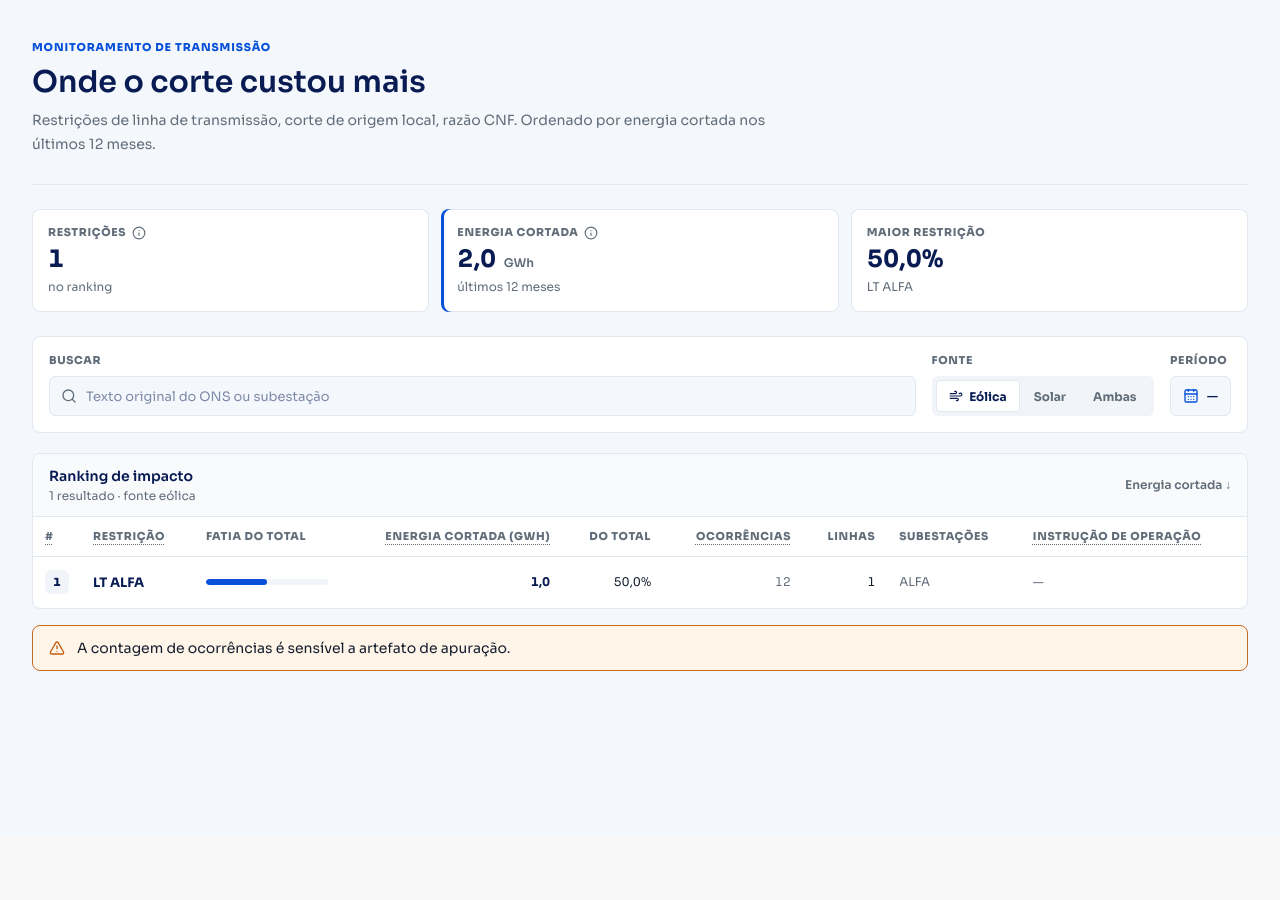
Test: restrictions list, tooltips › opens the API warning as a tooltip on the occurrences header
This screenshot has width=1280, height=900.
Focus the text "Ocorrências" at coordinates (744, 536), box x1=696 y1=529 x2=791 y2=543
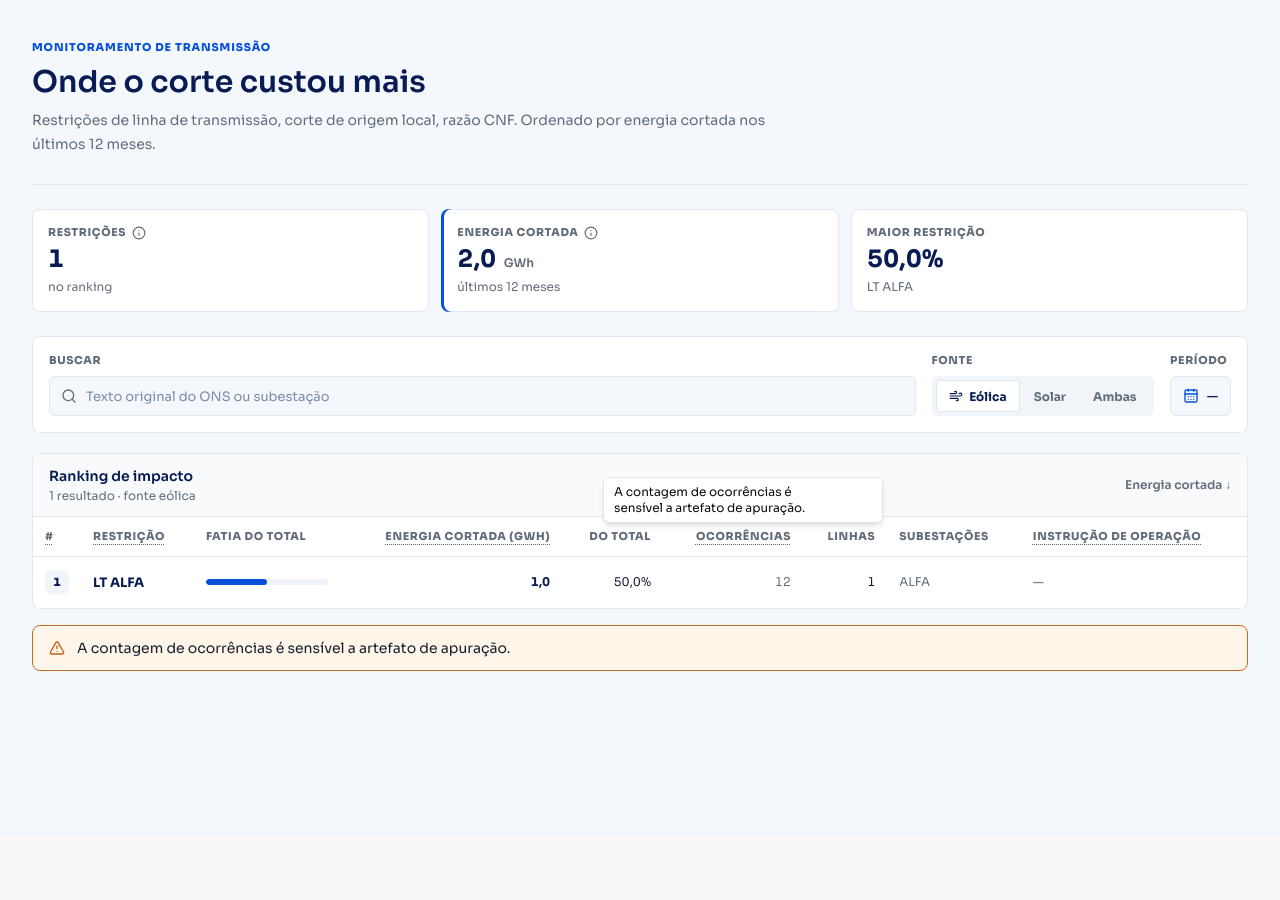
Now the tooltip reads "A contagem de ocorrências é sensível a artefato de apuração.", box x1=614 y1=484 x2=805 y2=515
